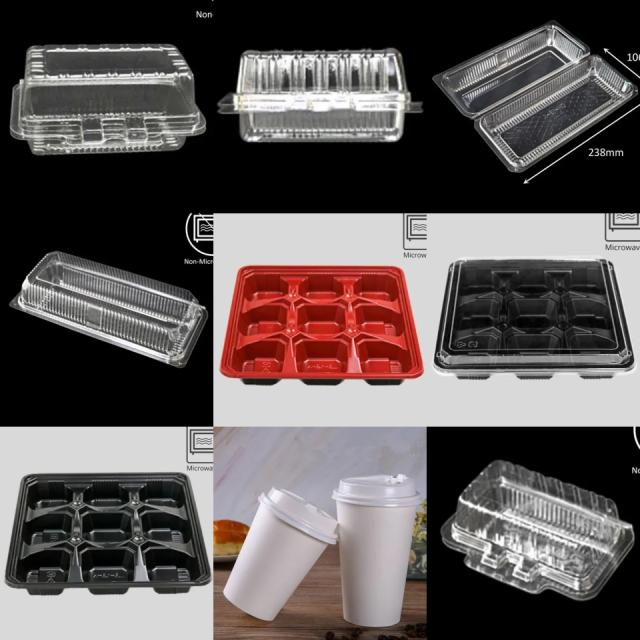Single-Use-Plastic: (434, 21, 638, 172), (441, 460, 634, 601), (6, 472, 210, 594), (220, 265, 424, 385), (434, 258, 634, 379), (10, 251, 208, 367), (10, 44, 206, 155), (219, 49, 421, 142), (224, 488, 339, 621), (332, 475, 420, 626)
